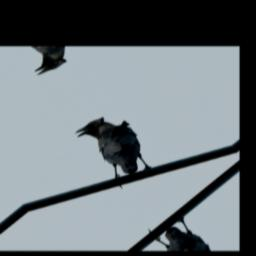Crow: (72, 105, 161, 195)
